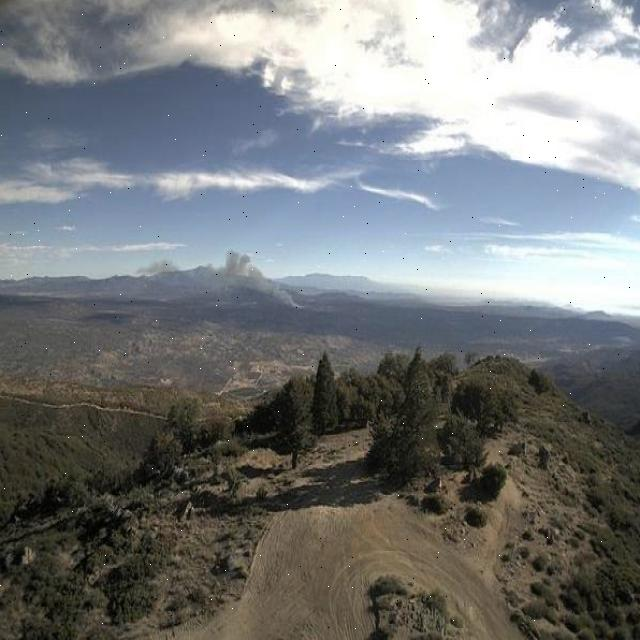smoke: (141, 241, 311, 321)
